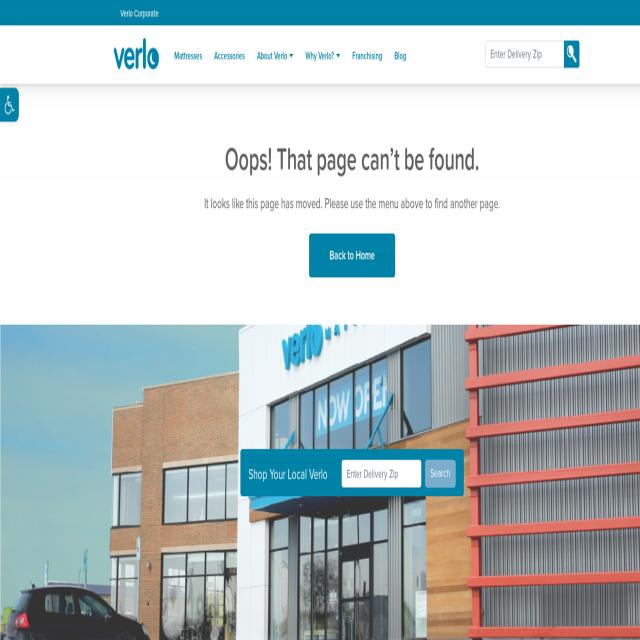button: (309, 234, 395, 278), (113, 36, 160, 69), (425, 460, 455, 488), (0, 87, 18, 122), (564, 41, 579, 68)
field: (342, 460, 421, 488), (486, 41, 564, 68)
